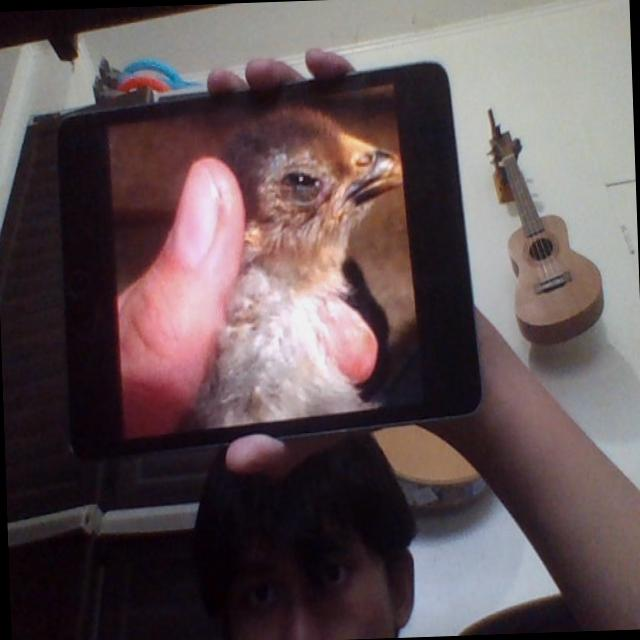Sick: (180, 107, 415, 423)
